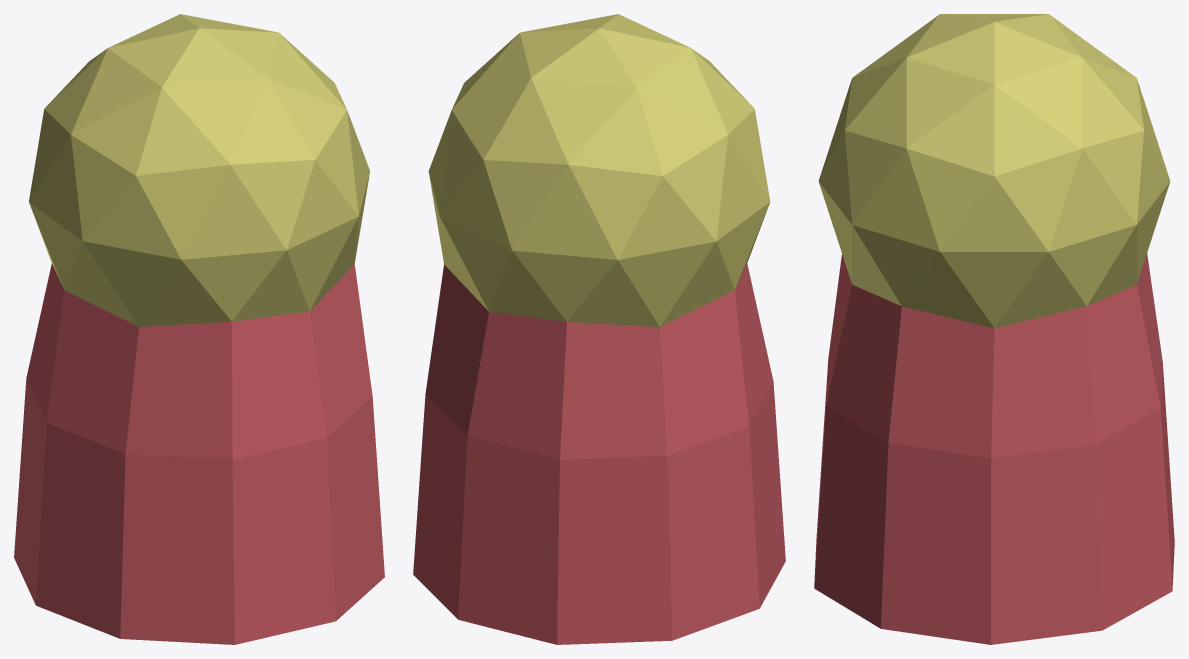
Rendered from ExportedBlenderFBXFile.fbx.
The picture shows the model from 3 angles, left to right: view 1: azimuth 30°, elevation 25°; view 2: azimuth 150°, elevation 25°; view 3: azimuth 270°, elevation 25°; orthographic projection.
Visible parts, largest first — view 1: Cylinder; view 2: Cylinder; view 3: Cylinder.
Boxes of the visible parts, left/top/right/bottom form: Cylinder: left=14, top=14, right=384, bottom=644; Cylinder: left=413, top=14, right=785, bottom=644; Cylinder: left=814, top=14, right=1174, bottom=644.
Size of the model in its own units: 2.14 by 3.41 by 2.05.
